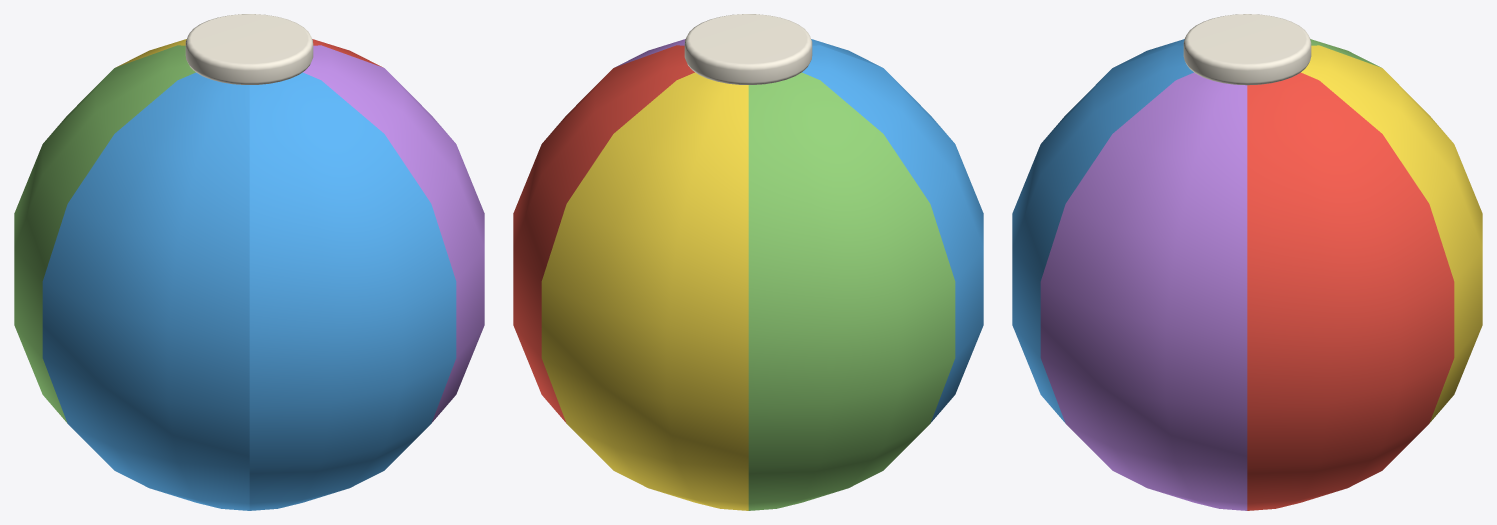
The model's file is rubber-ball.glb.
The picture shows the model from 3 angles, left to right: view 1: azimuth 30°, elevation 25°; view 2: azimuth 150°, elevation 25°; view 3: azimuth 270°, elevation 25°; orthographic projection.
Visible parts, largest first — view 1: colored beach ball panel.003, colored beach ball panel.004, colored beach ball panel.002, colored beach ball panel.005, white top cap; view 2: colored beach ball panel.002, colored beach ball panel.001, colored beach ball panel.003, colored beach ball panel, white top cap; view 3: colored beach ball panel, colored beach ball panel.005, colored beach ball panel.001, colored beach ball panel.004, white top cap.
Part boxes in pixels (x1=…): colored beach ball panel.003: x1=42, y1=72, x2=249, y2=510; colored beach ball panel.004: x1=249, y1=72, x2=456, y2=510; colored beach ball panel.002: x1=14, y1=45, x2=195, y2=423; colored beach ball panel.005: x1=303, y1=45, x2=484, y2=423; white top cap: x1=185, y1=14, x2=313, y2=84; colored beach ball panel.002: x1=748, y1=72, x2=955, y2=510; colored beach ball panel.001: x1=541, y1=72, x2=748, y2=510; colored beach ball panel.003: x1=802, y1=45, x2=983, y2=423; colored beach ball panel: x1=513, y1=45, x2=694, y2=423; white top cap: x1=684, y1=14, x2=812, y2=84; colored beach ball panel: x1=1247, y1=72, x2=1454, y2=510; colored beach ball panel.005: x1=1040, y1=72, x2=1247, y2=510; colored beach ball panel.001: x1=1301, y1=45, x2=1482, y2=422; colored beach ball panel.004: x1=1012, y1=45, x2=1193, y2=422; white top cap: x1=1183, y1=14, x2=1311, y2=85.
Bounding box in the file's own units: 0.7091 × 0.7375 × 0.6983.
